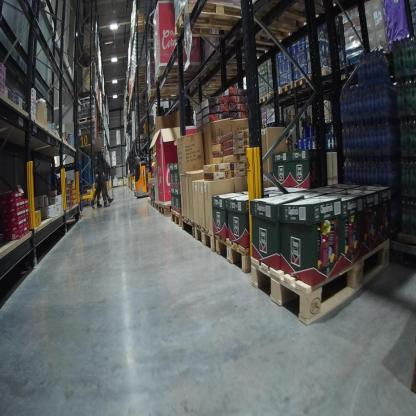pallets: (171, 206, 390, 323), (172, 0, 312, 43)
